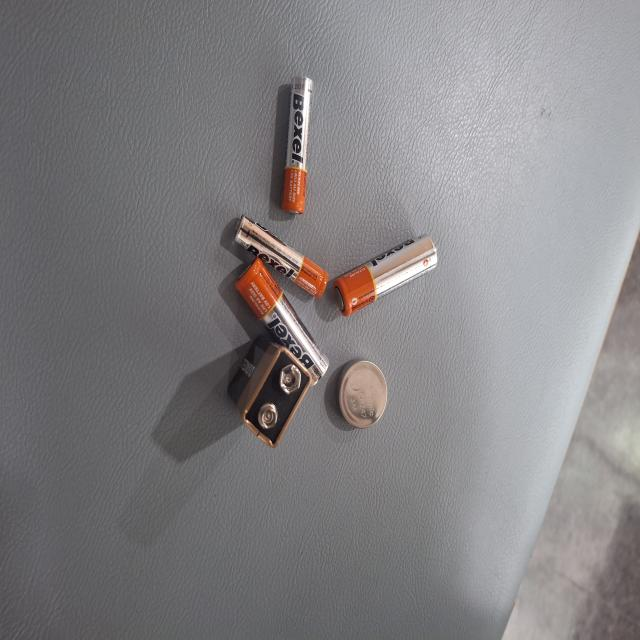9V: (253, 434, 335, 552)
AA: (193, 415, 289, 541), (176, 270, 236, 408)
AAA: (161, 416, 225, 542), (58, 436, 158, 480)
COIN: (268, 336, 322, 404)
